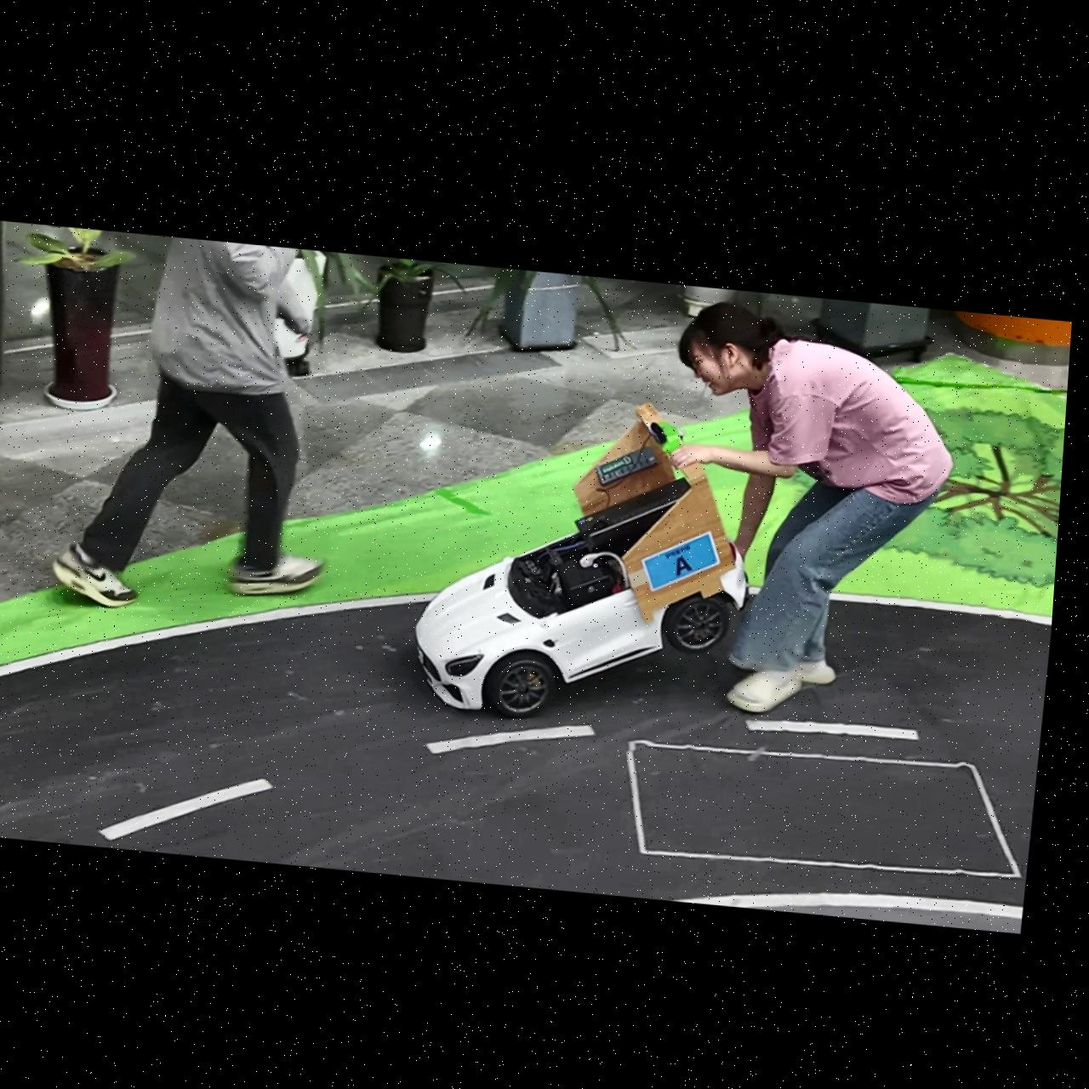broken_line: (99, 778, 272, 839), (426, 724, 595, 754), (745, 719, 919, 740)
